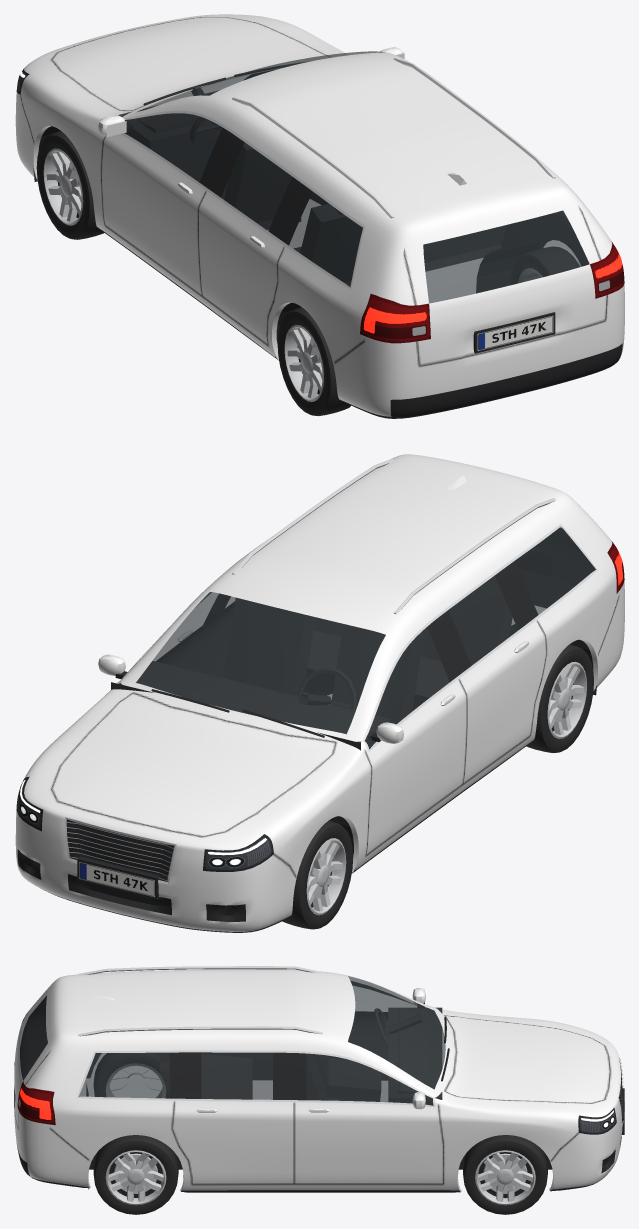
Rendered from car_estate.glb.
3 renders of one model, top to bottom at view 1: azimuth 30°, elevation 25°; view 2: azimuth 150°, elevation 25°; view 3: azimuth 270°, elevation 25°, orthographic. The views are drawn at different scales.
Parts seen in each view (by area): view 1: body, wheel_rl, wheel_fl, wheel_rr; view 2: body, wheel_fl, wheel_rl; view 3: body, wheel_rr, wheel_fr, wheel_rl.
Boxes of the visible parts, <box> form: body: <box>15,14,624,418</box>; wheel_rl: <box>277,307,351,416</box>; wheel_fl: <box>36,131,103,239</box>; wheel_rr: <box>510,246,579,284</box>; body: <box>15,454,624,932</box>; wheel_fl: <box>282,820,353,929</box>; wheel_rl: <box>526,644,593,752</box>; body: <box>14,966,624,1192</box>; wheel_rr: <box>93,1135,178,1214</box>; wheel_fr: <box>463,1135,547,1214</box>; wheel_rl: <box>94,1053,169,1098</box>.
Bounding box in the file's own units: 2.08 × 1.47 × 4.75.
Materials: 10 (4 with a texture image).
